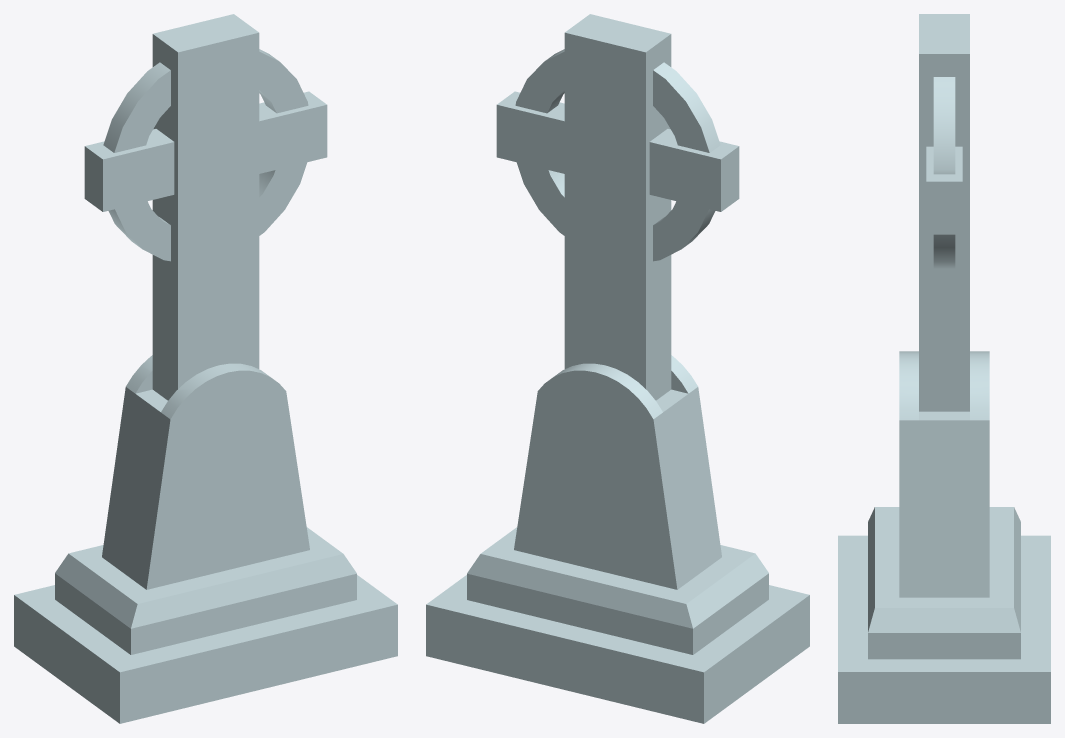
Rendered from gravestoneCrossLarge.glb.
The picture shows the model from 3 angles, left to right: view 1: azimuth 30°, elevation 25°; view 2: azimuth 150°, elevation 25°; view 3: azimuth 270°, elevation 25°; orthographic projection.
Visible parts, largest first — view 1: gravestoneCrossLarge; view 2: gravestoneCrossLarge; view 3: gravestoneCrossLarge.
Part boxes in pixels (box(x1,y1,x2,y2)): gravestoneCrossLarge: box(14, 14, 397, 723); gravestoneCrossLarge: box(426, 14, 809, 723); gravestoneCrossLarge: box(838, 14, 1050, 723).
Size of the model in its own units: 0.4415 by 0.9383 by 0.2913.
